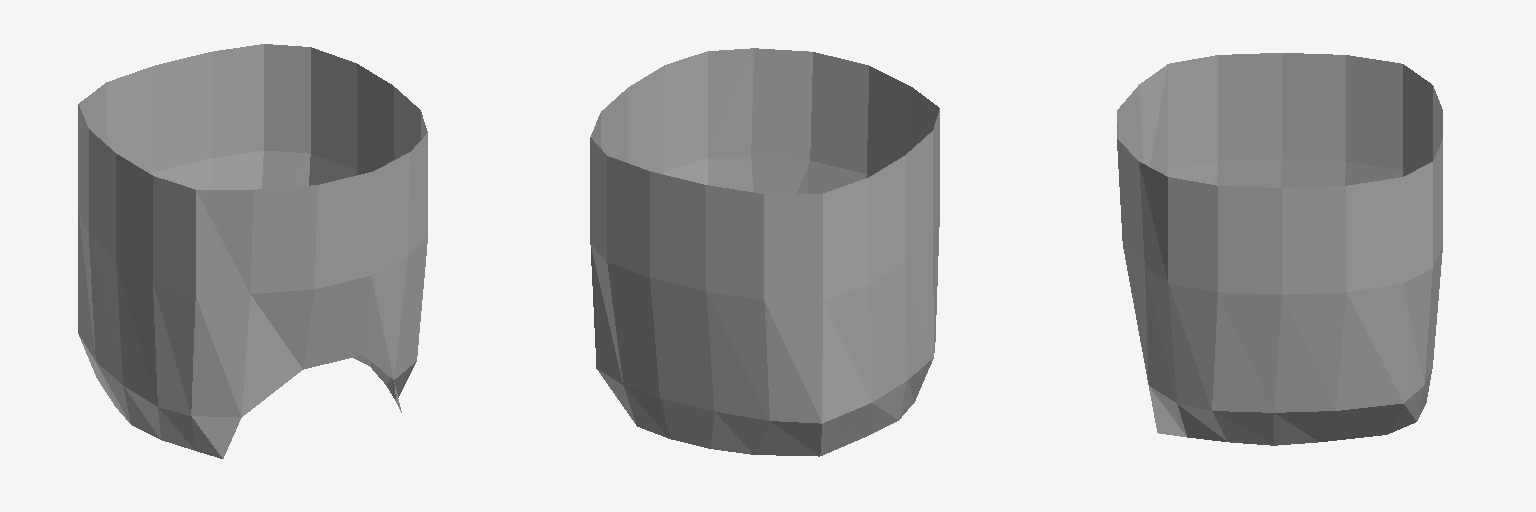
Rendered from leftArm3Cover.obj.
3 views of the same model, side by side, from view 1: azimuth 30°, elevation 25°; view 2: azimuth 150°, elevation 25°; view 3: azimuth 270°, elevation 25° (orthographic).
Parts seen in each view (by area): view 1: unnamed_object1; view 2: unnamed_object1; view 3: unnamed_object1.
Boxes of the visible parts, x1=… form: unnamed_object1: x1=78, y1=44, x2=427, y2=458; unnamed_object1: x1=590, y1=48, x2=939, y2=456; unnamed_object1: x1=1117, y1=53, x2=1442, y2=445.
Size of the model in its own units: 9.71 by 9.08 by 9.9.